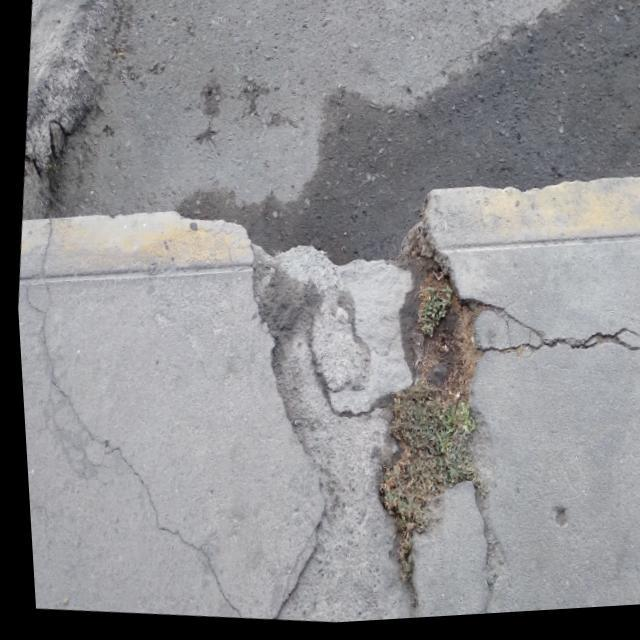hole: (282, 230, 497, 552)
